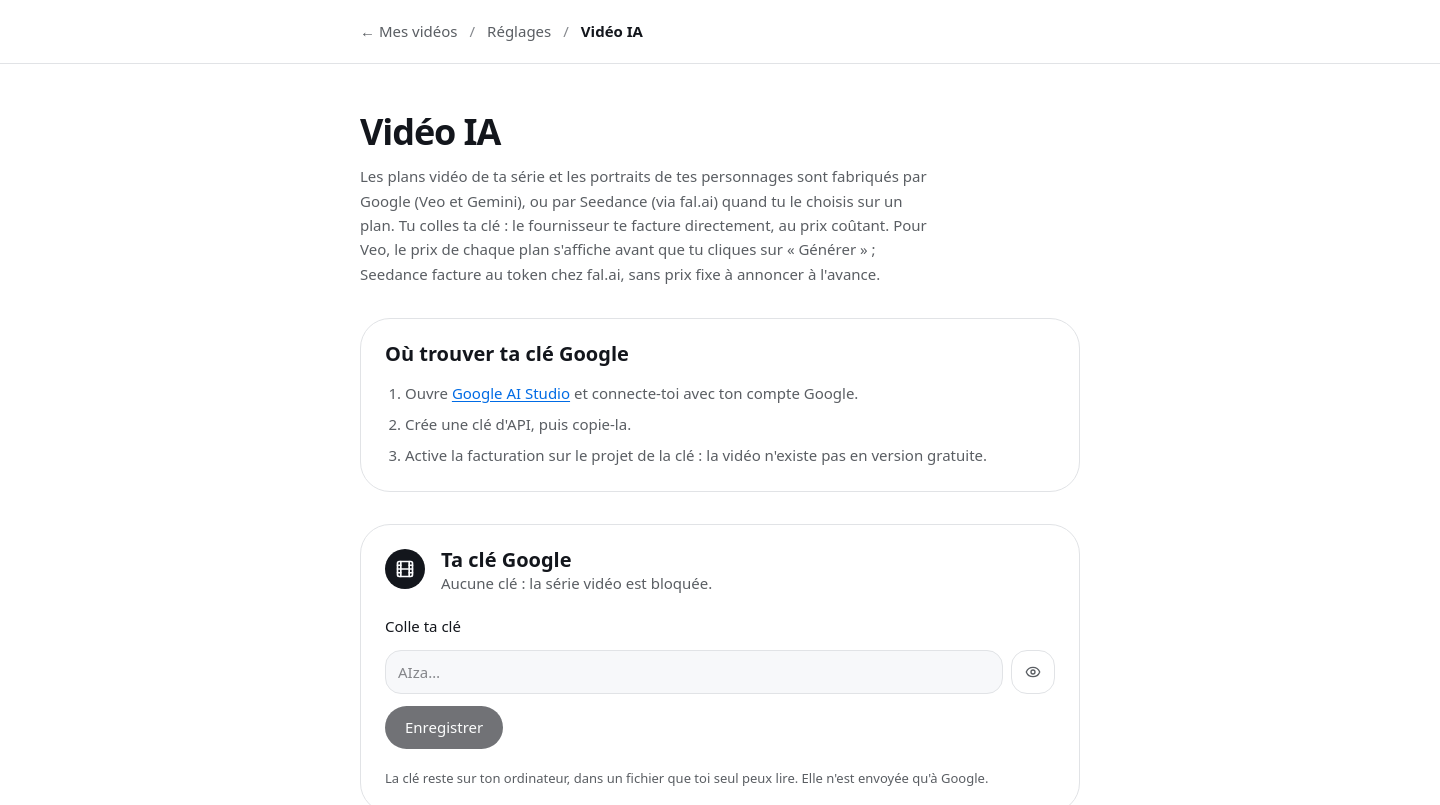
Test: Réglages · Vidéo IA — Google (Veo) › sans clé : le dit, et enregistre celle qu'on colle
Expected: the text "Aucune clé : la série vidéo est bloquée." is shown, [441, 572, 712, 595]
Step 1. Type "  AIza-cle-de-test  " into the password field labelled "Colle ta clé" → [694, 672], box [385, 650, 1003, 694]
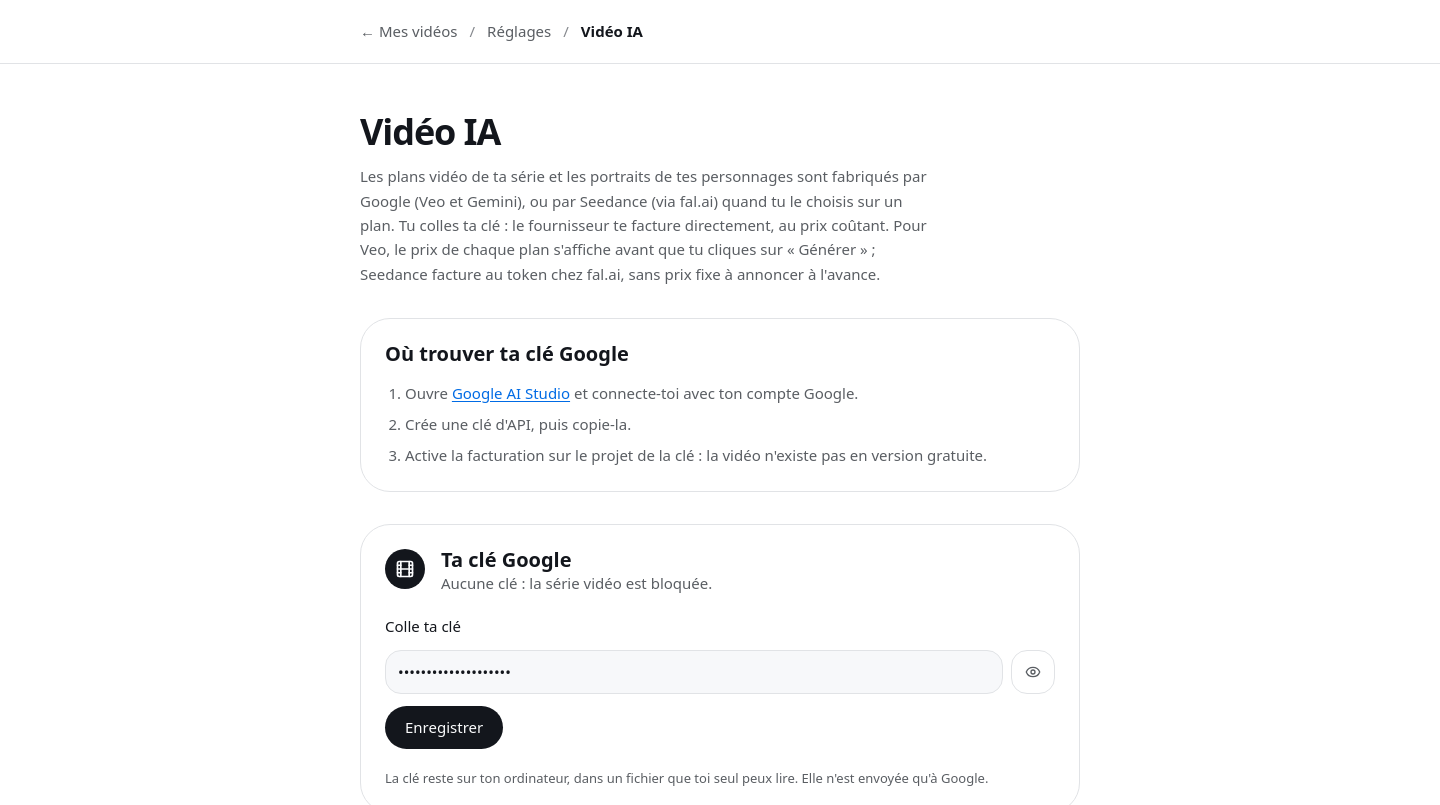
Step 2. Click the button "Enregistrer" → [444, 728], box [385, 706, 503, 750]
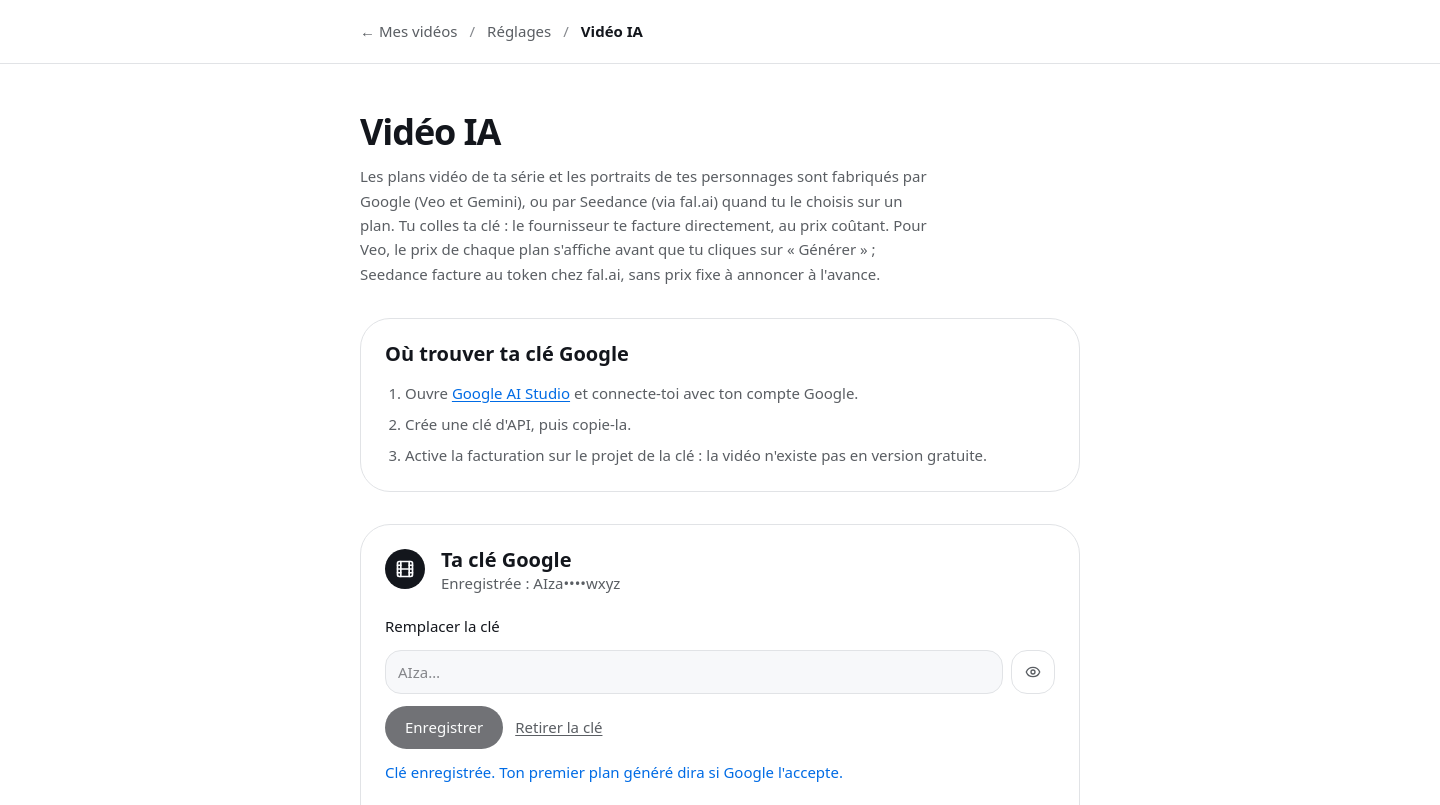
Expected: the text "Enregistrée : AIza••••wxyz" is shown, [441, 572, 620, 595]
Expected: the text "Clé enregistrée. Ton premier plan généré dira si Google l'accepte." is shown, [385, 761, 843, 785]
